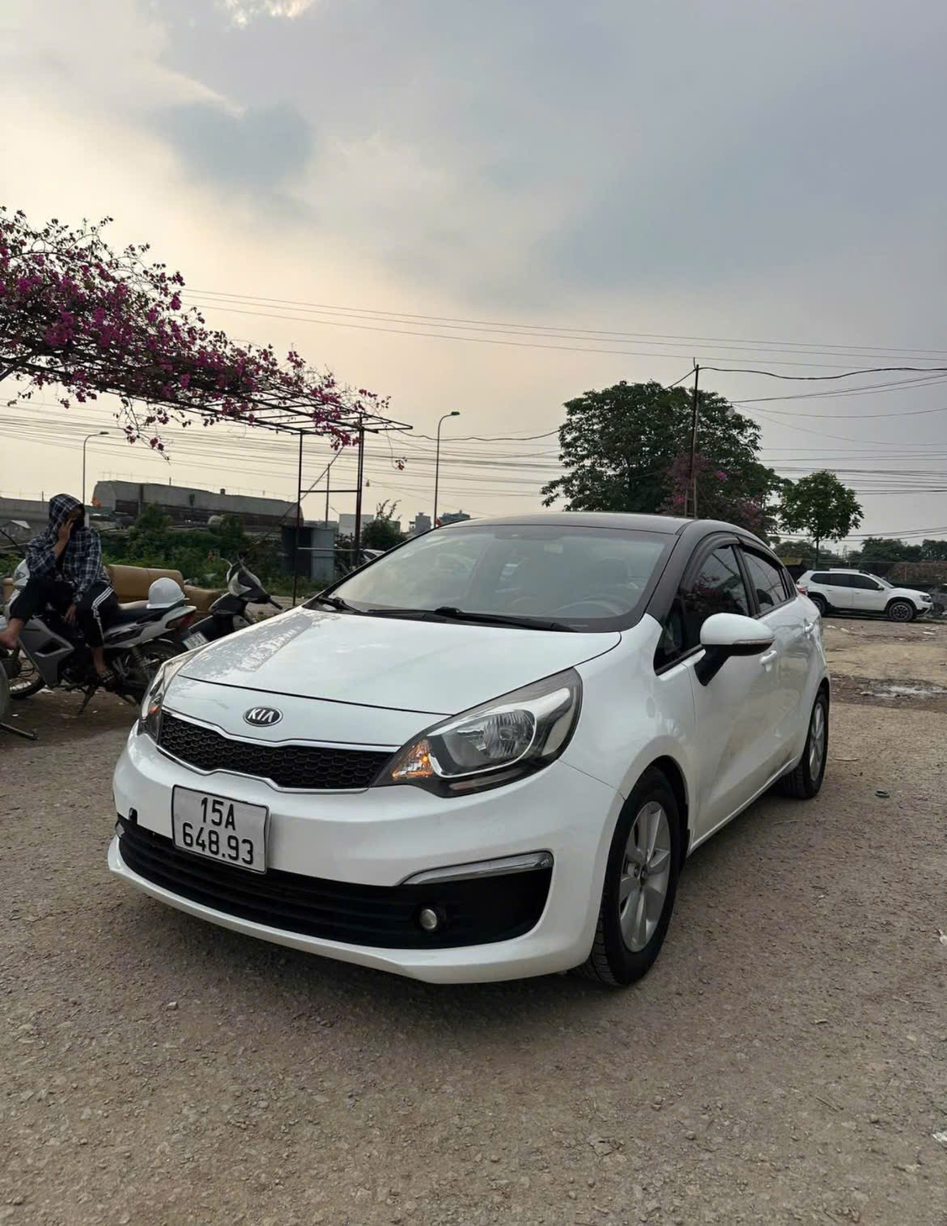Bien-so: (168, 786, 263, 867)
